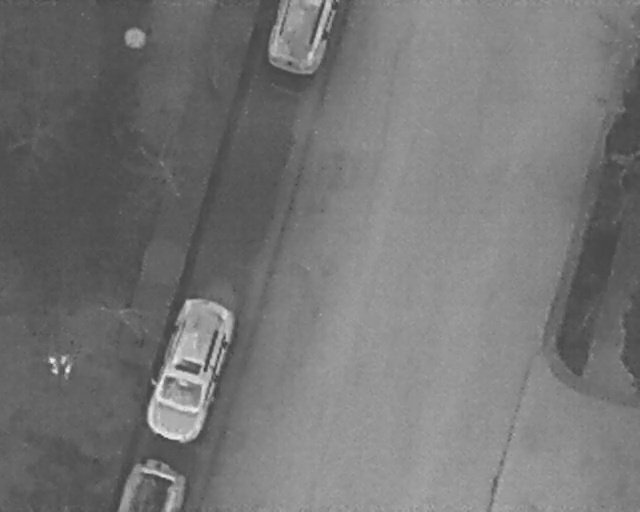Car: (139, 293, 237, 446), (266, 1, 335, 77), (115, 456, 186, 512)
Person: (46, 355, 60, 378), (61, 355, 72, 380)
